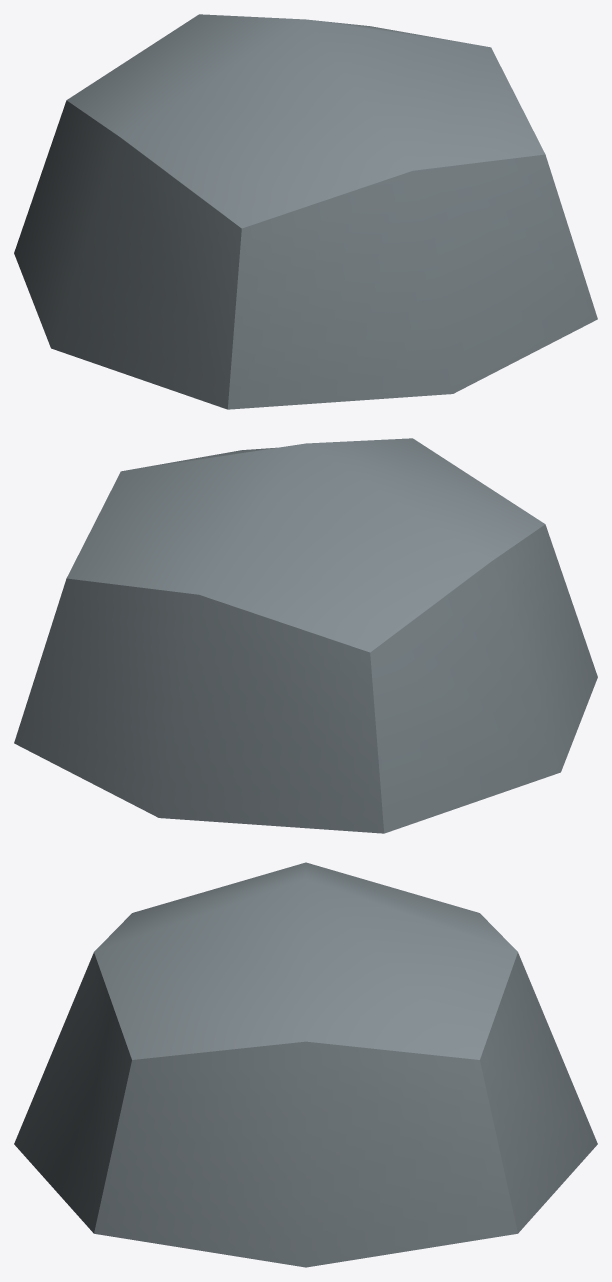
The model's file is Rock_5_A_Color1.gltf.
The picture shows the model from 3 angles, top to bottom: view 1: azimuth 30°, elevation 25°; view 2: azimuth 150°, elevation 25°; view 3: azimuth 270°, elevation 25°; orthographic projection.
Visible parts, largest first — view 1: Rock_5_A_Color1; view 2: Rock_5_A_Color1; view 3: Rock_5_A_Color1.
Part boxes in pixels (bbox=[...]): Rock_5_A_Color1: bbox=[14, 14, 597, 409]; Rock_5_A_Color1: bbox=[14, 438, 597, 833]; Rock_5_A_Color1: bbox=[14, 862, 597, 1267].
Bounding box in the file's own units: 0.1899 × 0.095 × 0.1899.
Materials: 1 (1 with a texture image).
